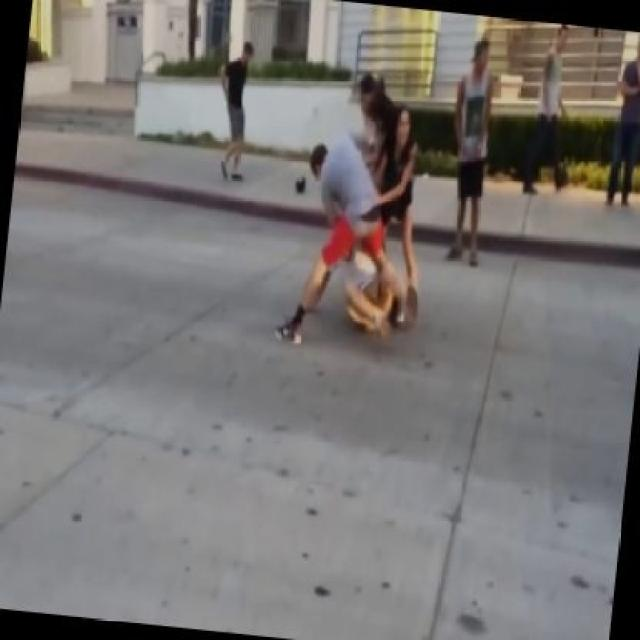fight: (279, 67, 421, 341)
non-fight: (447, 37, 496, 261), (521, 26, 571, 192), (605, 41, 639, 206), (218, 42, 254, 178)
